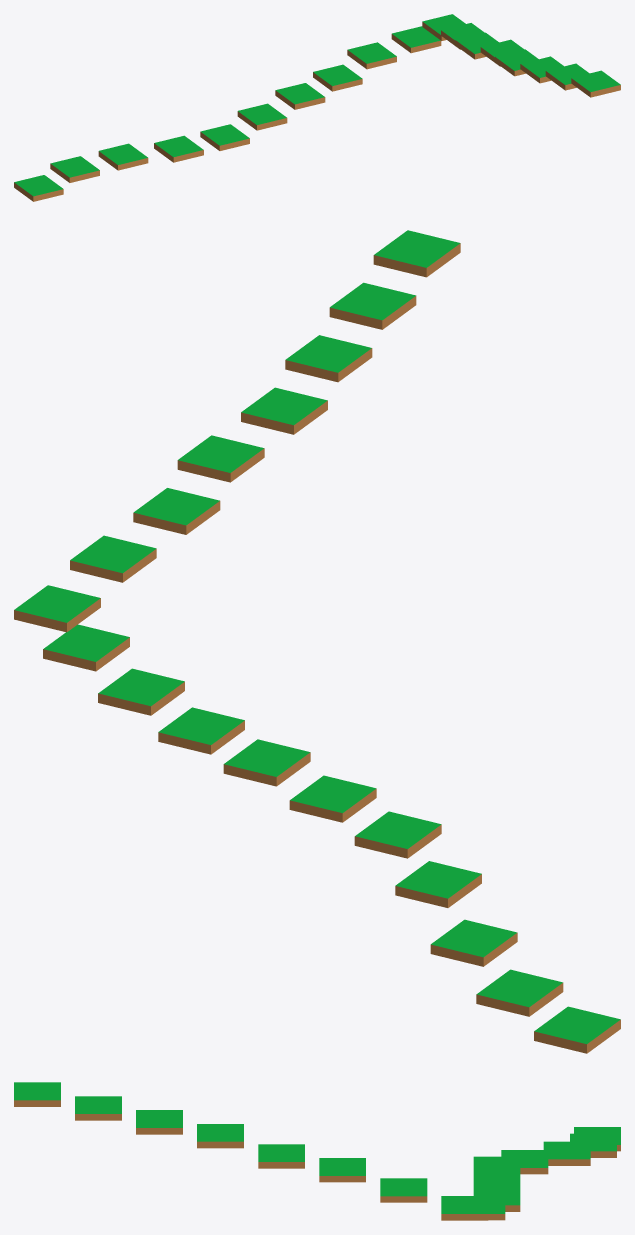
The model's file is Level2Platforms.glb.
The picture shows the model from 3 angles, top to bottom: view 1: azimuth 30°, elevation 25°; view 2: azimuth 150°, elevation 25°; view 3: azimuth 270°, elevation 25°; orthographic projection. The views are drawn at different scales.
Parts seen in each view (by area): view 1: Platform.002, Platform.005, Platform.006, Platform.003, Platform.008, Platform.017, Platform.007, Platform.004, Platform.001, Platform, Platform.009, Platform.016 (+6 smaller); view 2: Platform.002, Platform.001, Platform.004, Platform.017, Platform.012, Platform.013, Platform.015, Platform.005, Platform.016, Platform.006, Platform, Platform.011 (+6 smaller); view 3: Platform.010, Platform.011, Platform.012, Platform.013, Platform.014, Platform.015, Platform.016, Platform.017, Platform.002, Platform.003, Platform.001, Platform.008 (+5 smaller).
Part boxes in pixels (box(x1,y1,x2,y2)): Platform.002: box(98, 143, 148, 170); Platform.005: box(237, 103, 287, 130); Platform.006: box(275, 83, 325, 109); Platform.003: box(154, 135, 203, 162); Platform.008: box(347, 42, 396, 69); Platform.017: box(571, 70, 620, 97); Platform.007: box(313, 64, 362, 91); Platform.004: box(200, 124, 249, 150); Platform.001: box(50, 156, 99, 182); Platform: box(14, 175, 63, 201); Platform.009: box(391, 26, 441, 53); Platform.016: box(545, 63, 589, 90); Platform.002: box(430, 919, 517, 966); Platform.001: box(476, 969, 563, 1016); Platform.004: box(354, 811, 441, 858); Platform.017: box(373, 230, 460, 277); Platform.012: box(133, 488, 220, 534); Platform.013: box(177, 435, 264, 482); Platform.015: box(285, 335, 372, 382); Platform.005: box(289, 775, 376, 822); Platform.016: box(329, 282, 416, 329); Platform.006: box(223, 739, 310, 786); Platform: box(534, 1006, 620, 1053); Platform.011: box(70, 535, 156, 582); Platform.010: box(441, 1196, 488, 1220); Platform.011: box(380, 1178, 427, 1202); Platform.012: box(319, 1158, 365, 1182); Platform.013: box(258, 1144, 304, 1168); Platform.014: box(197, 1124, 243, 1148); Platform.015: box(136, 1110, 182, 1134); Platform.016: box(75, 1096, 121, 1120); Platform.017: box(14, 1082, 60, 1106); Platform.002: box(543, 1141, 590, 1165); Platform.003: box(501, 1150, 548, 1174); Platform.001: box(570, 1133, 616, 1157); Platform.008: box(473, 1187, 520, 1211).
Size of the model in its own units: 34.92 by 17.48 by 39.77.
Materials: 1 (1 with a texture image).
